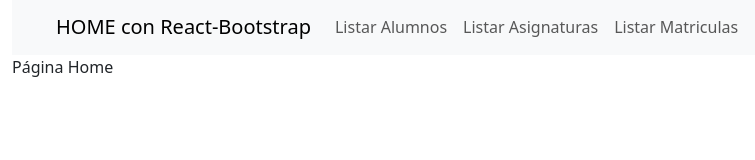
it: Menu component › el enlace Listar Matriculas navega a /matriculas
Click the link "Listar Matriculas" at (676, 27), box [614,16,738,38]
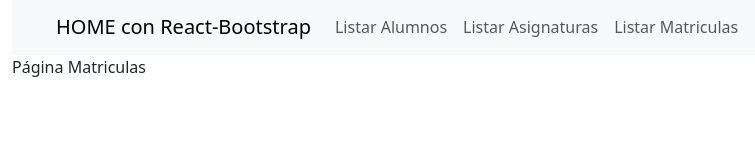
Expected: the text "Página Matriculas" is shown, [12,56,146,78]
